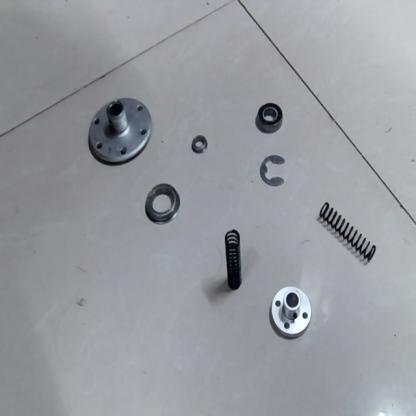FOD: (82, 92, 154, 170), (317, 197, 379, 264), (269, 284, 314, 341), (143, 181, 183, 227), (221, 227, 245, 295), (259, 150, 290, 190), (252, 101, 288, 135), (188, 132, 210, 157)
